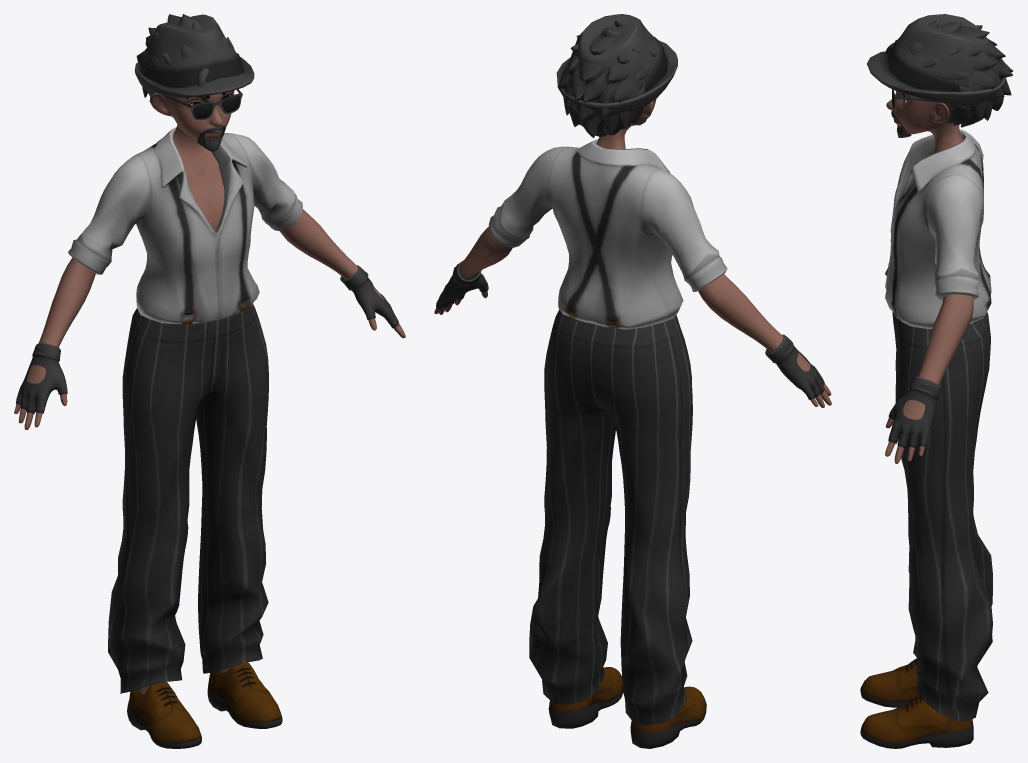
File: Tristian_Mesh.obj
The picture shows the model from 3 angles, left to right: view 1: azimuth 30°, elevation 25°; view 2: azimuth 150°, elevation 25°; view 3: azimuth 270°, elevation 25°; orthographic projection.
Visible parts, largest first — view 1: Tristian_Mesh_0; view 2: Tristian_Mesh_0; view 3: Tristian_Mesh_0.
Part boxes in pixels (box(x1,y1,x2,y2)): Tristian_Mesh_0: box(14, 14, 405, 748); Tristian_Mesh_0: box(434, 14, 831, 748); Tristian_Mesh_0: box(860, 14, 1012, 748).
Bounding box in the file's own units: 1.06 × 1.84 × 0.3652.
Materials: 1 (1 with a texture image).
